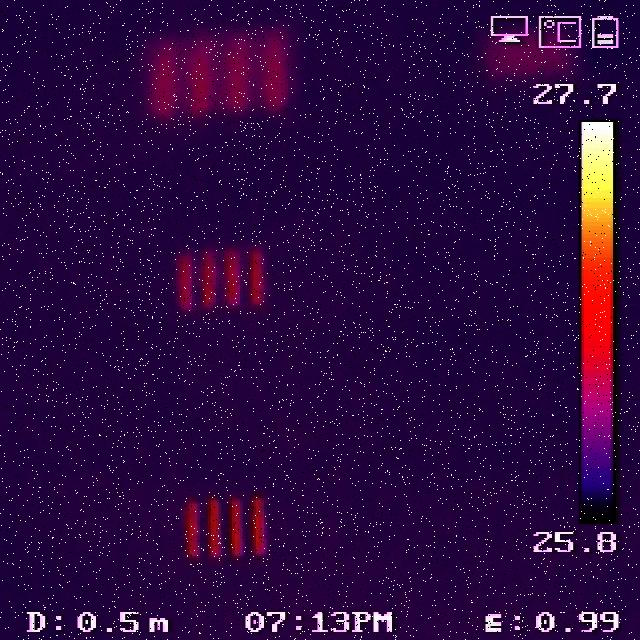Distinguishable 4-bar target: (172, 244, 272, 309), (180, 498, 269, 556)
Indistinguishable 4-bar target: (489, 27, 572, 75)
threshold 4-bar target: (137, 24, 295, 117)
